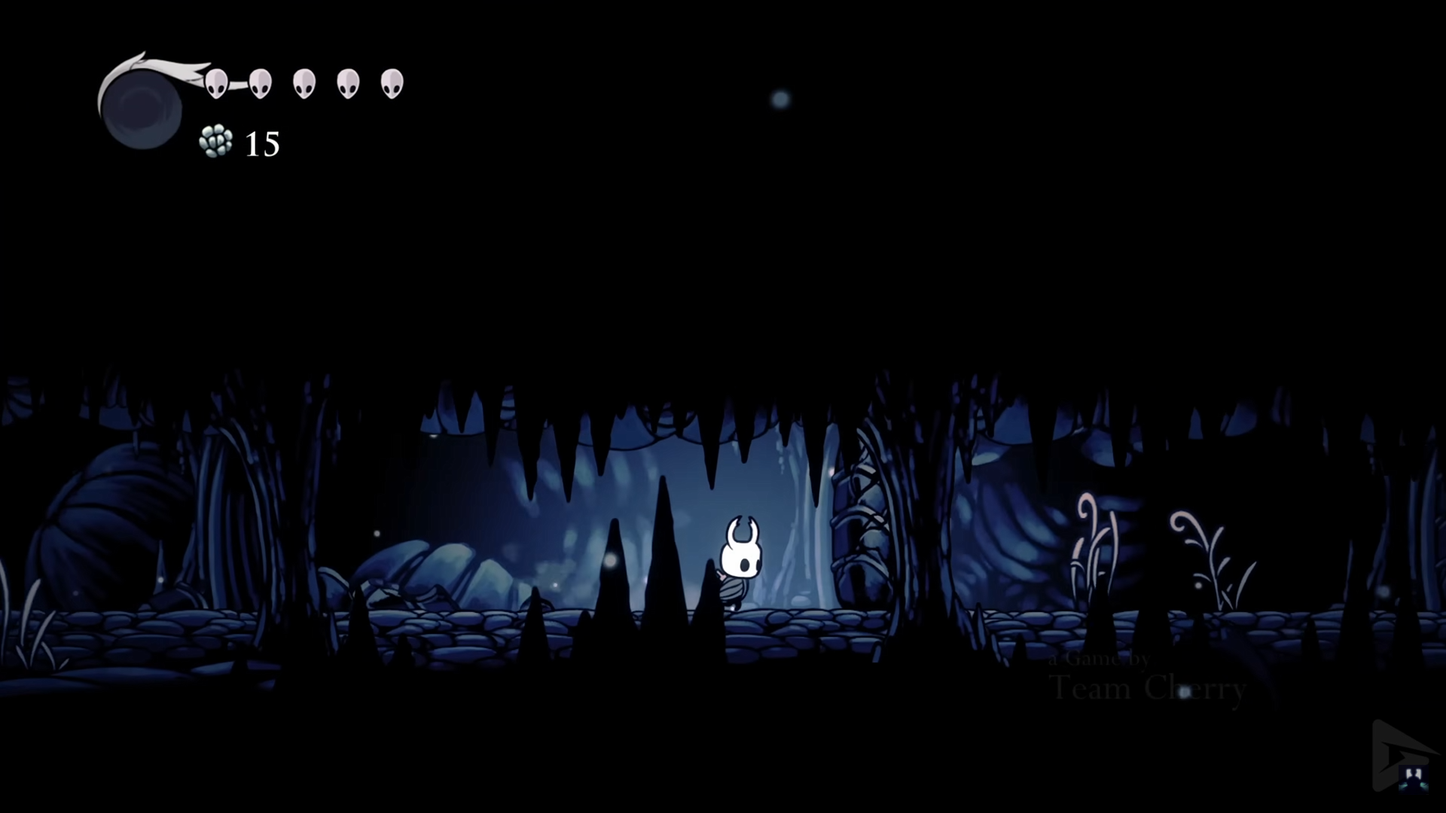HK: (709, 512, 767, 615)
